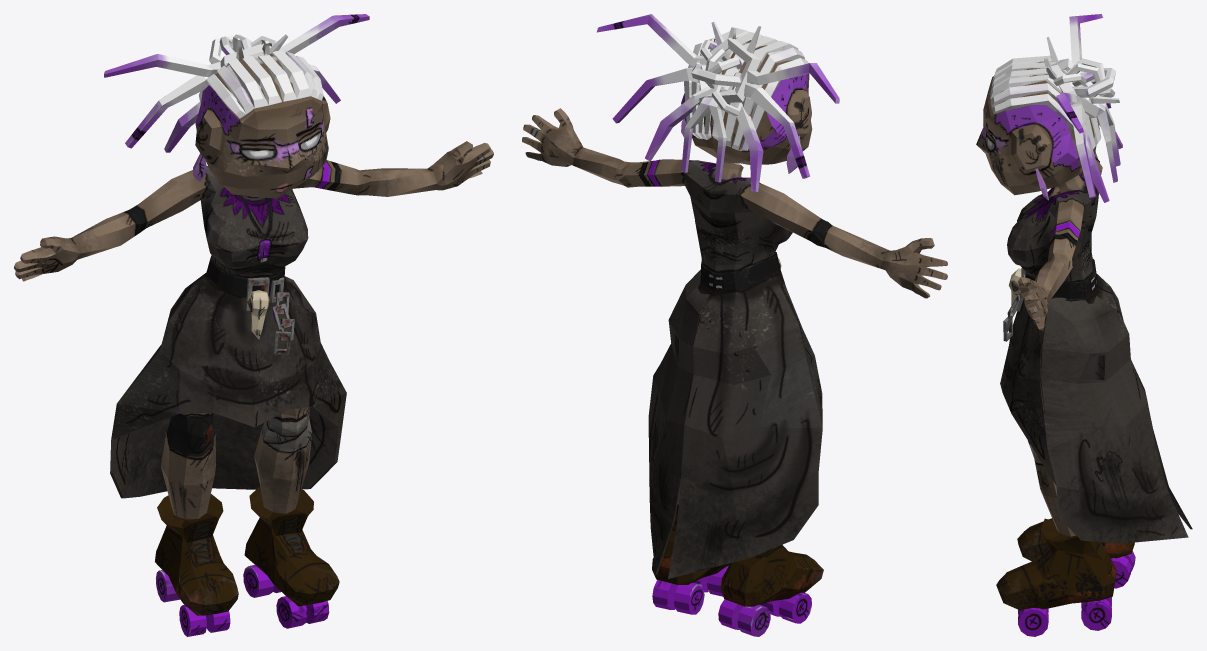
The model's file is bruja_000074.obj.
3 renders of one model, left to right at view 1: azimuth 30°, elevation 25°; view 2: azimuth 150°, elevation 25°; view 3: azimuth 270°, elevation 25°, orthographic. The views are drawn at different scales.
Visible parts, largest first — view 1: Bruja_Plane.001; view 2: Bruja_Plane.001; view 3: Bruja_Plane.001.
Part boxes in pixels (x1,y1,x2,y2): Bruja_Plane.001: (14, 14, 493, 636); Bruja_Plane.001: (522, 14, 947, 636); Bruja_Plane.001: (976, 14, 1192, 636).
Bounding box in the file's own units: 13.26 × 16.58 × 5.76.
